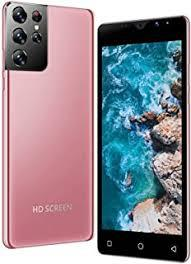Smartphone: (4, 2, 94, 250), (99, 16, 184, 260)
